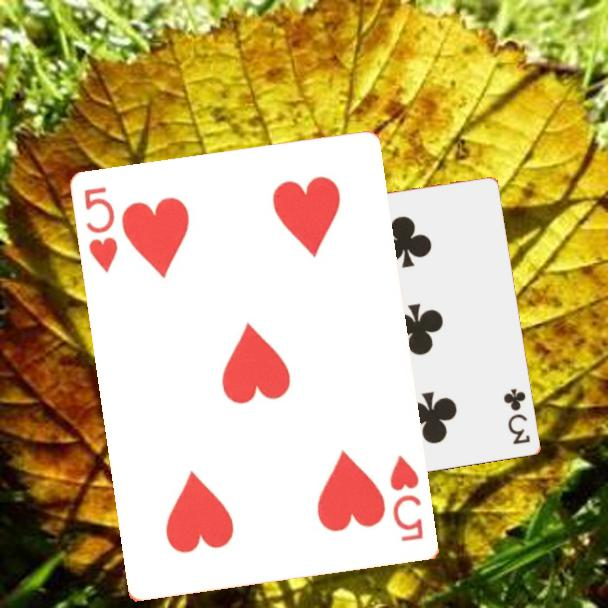c03: (500, 385, 533, 448)
h05: (81, 183, 122, 276), (387, 452, 427, 545)
